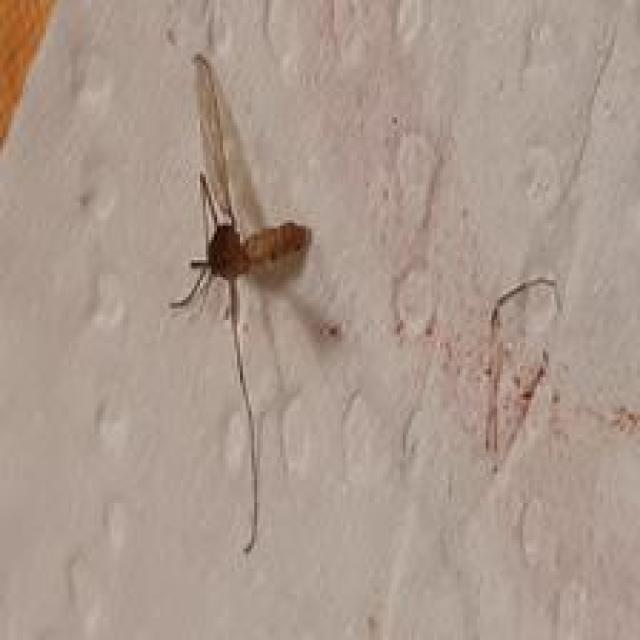Culex: (166, 52, 340, 554)
